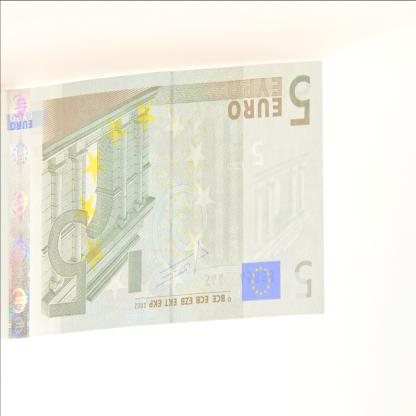euro_banknote: (9, 72, 331, 330)
